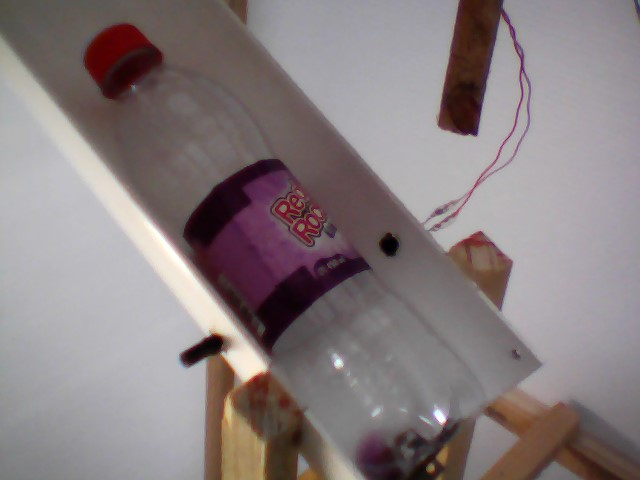plastico: (78, 13, 507, 480)
